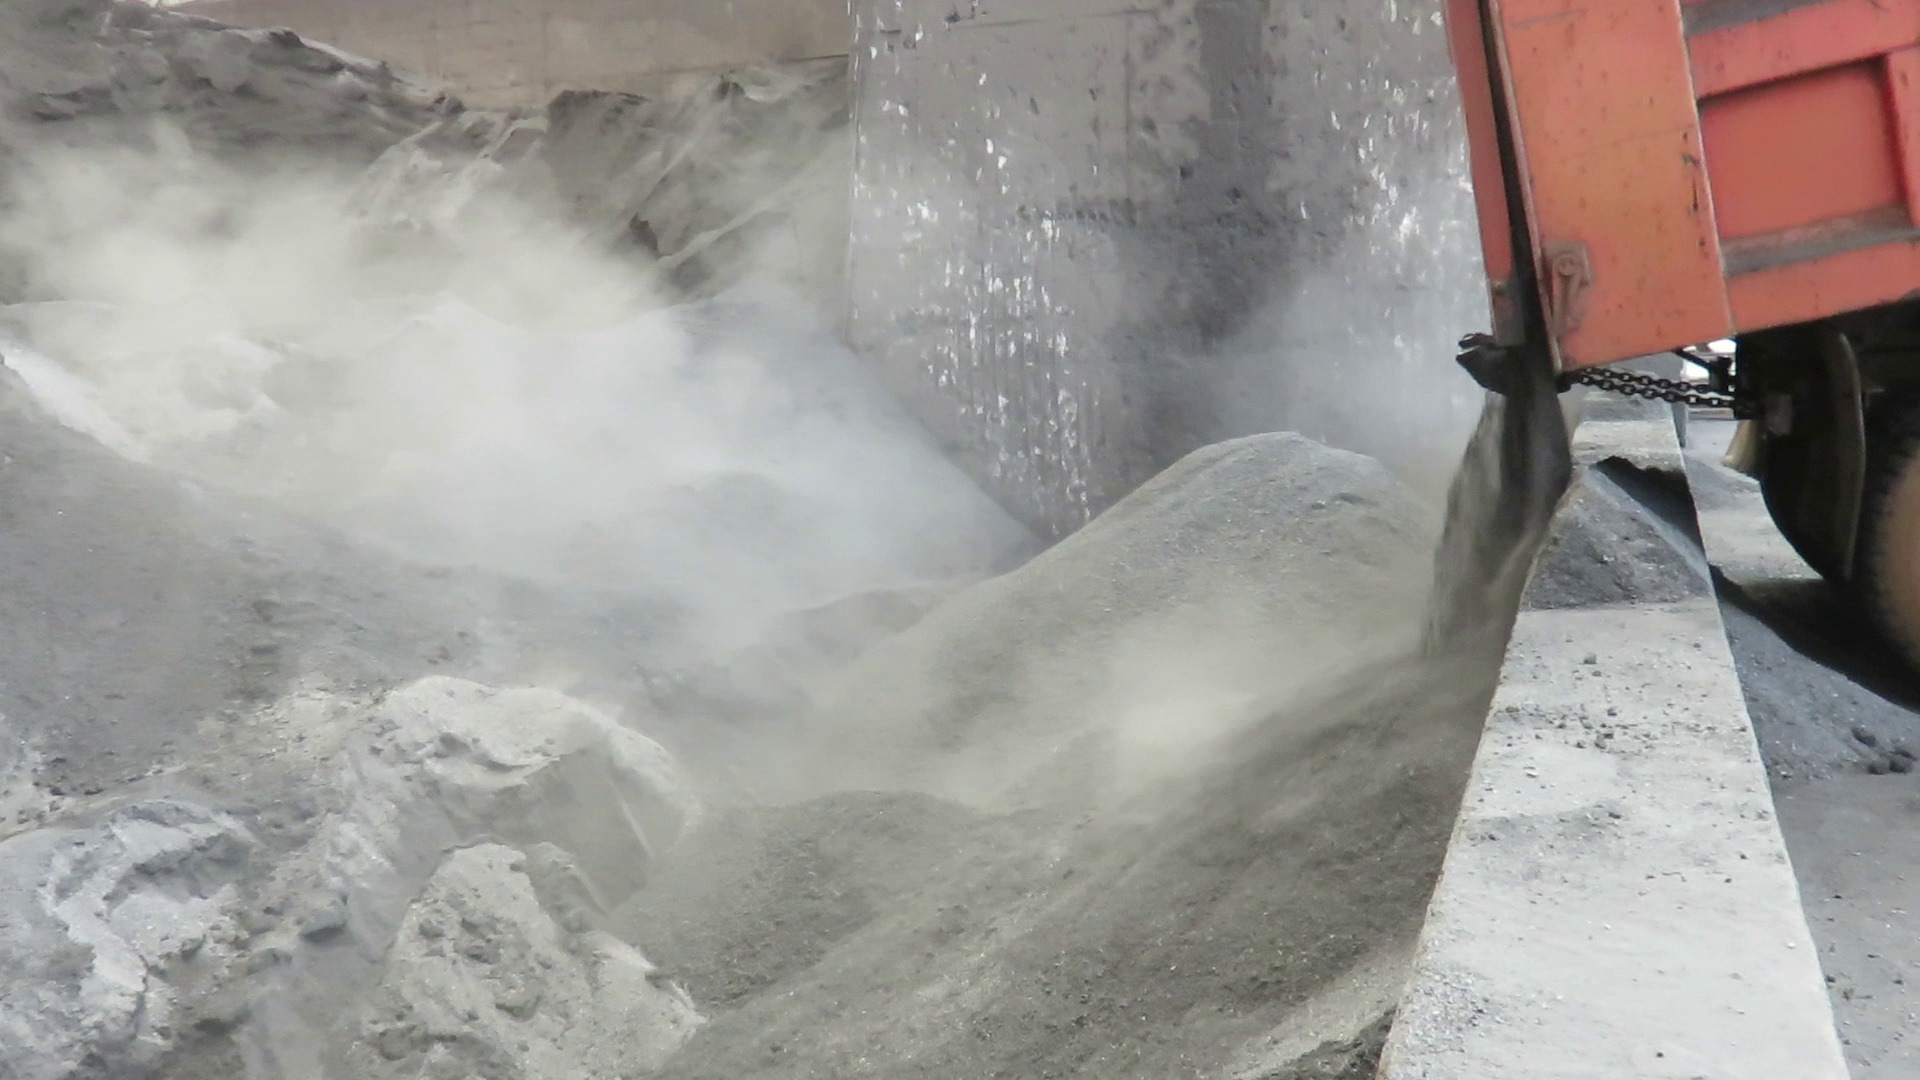dust: (1, 108, 1489, 986)
truck: (1439, 0, 1920, 692)
